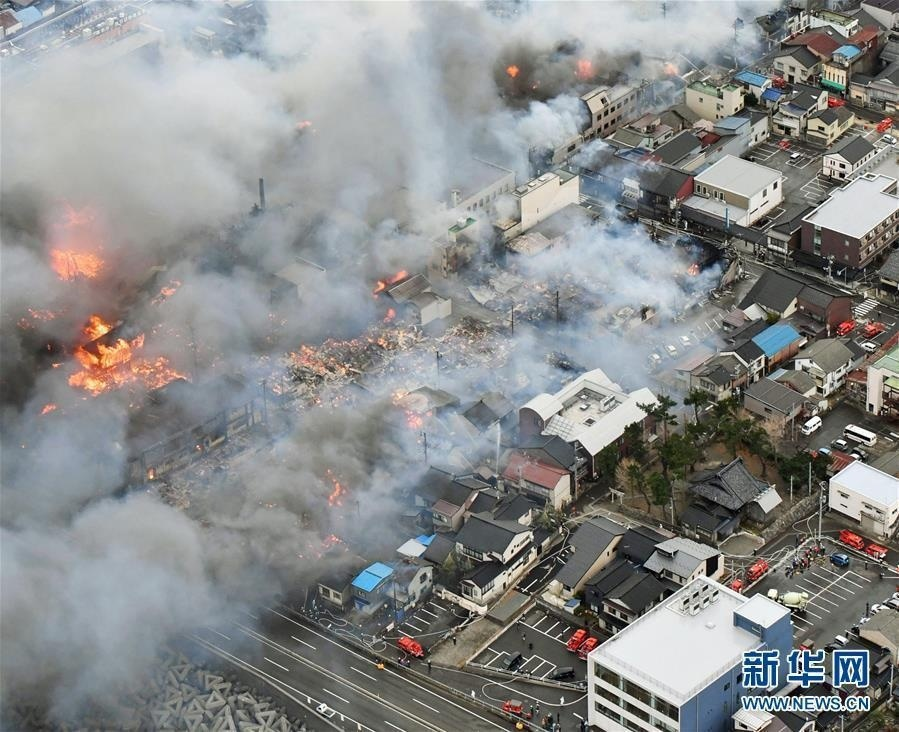fire: (64, 316, 184, 397), (44, 205, 110, 281), (393, 391, 430, 428), (373, 270, 410, 292), (322, 470, 345, 505), (399, 405, 431, 429), (319, 532, 342, 549), (663, 61, 679, 75), (505, 61, 519, 76), (685, 261, 699, 276), (39, 401, 56, 412), (146, 466, 158, 480)
